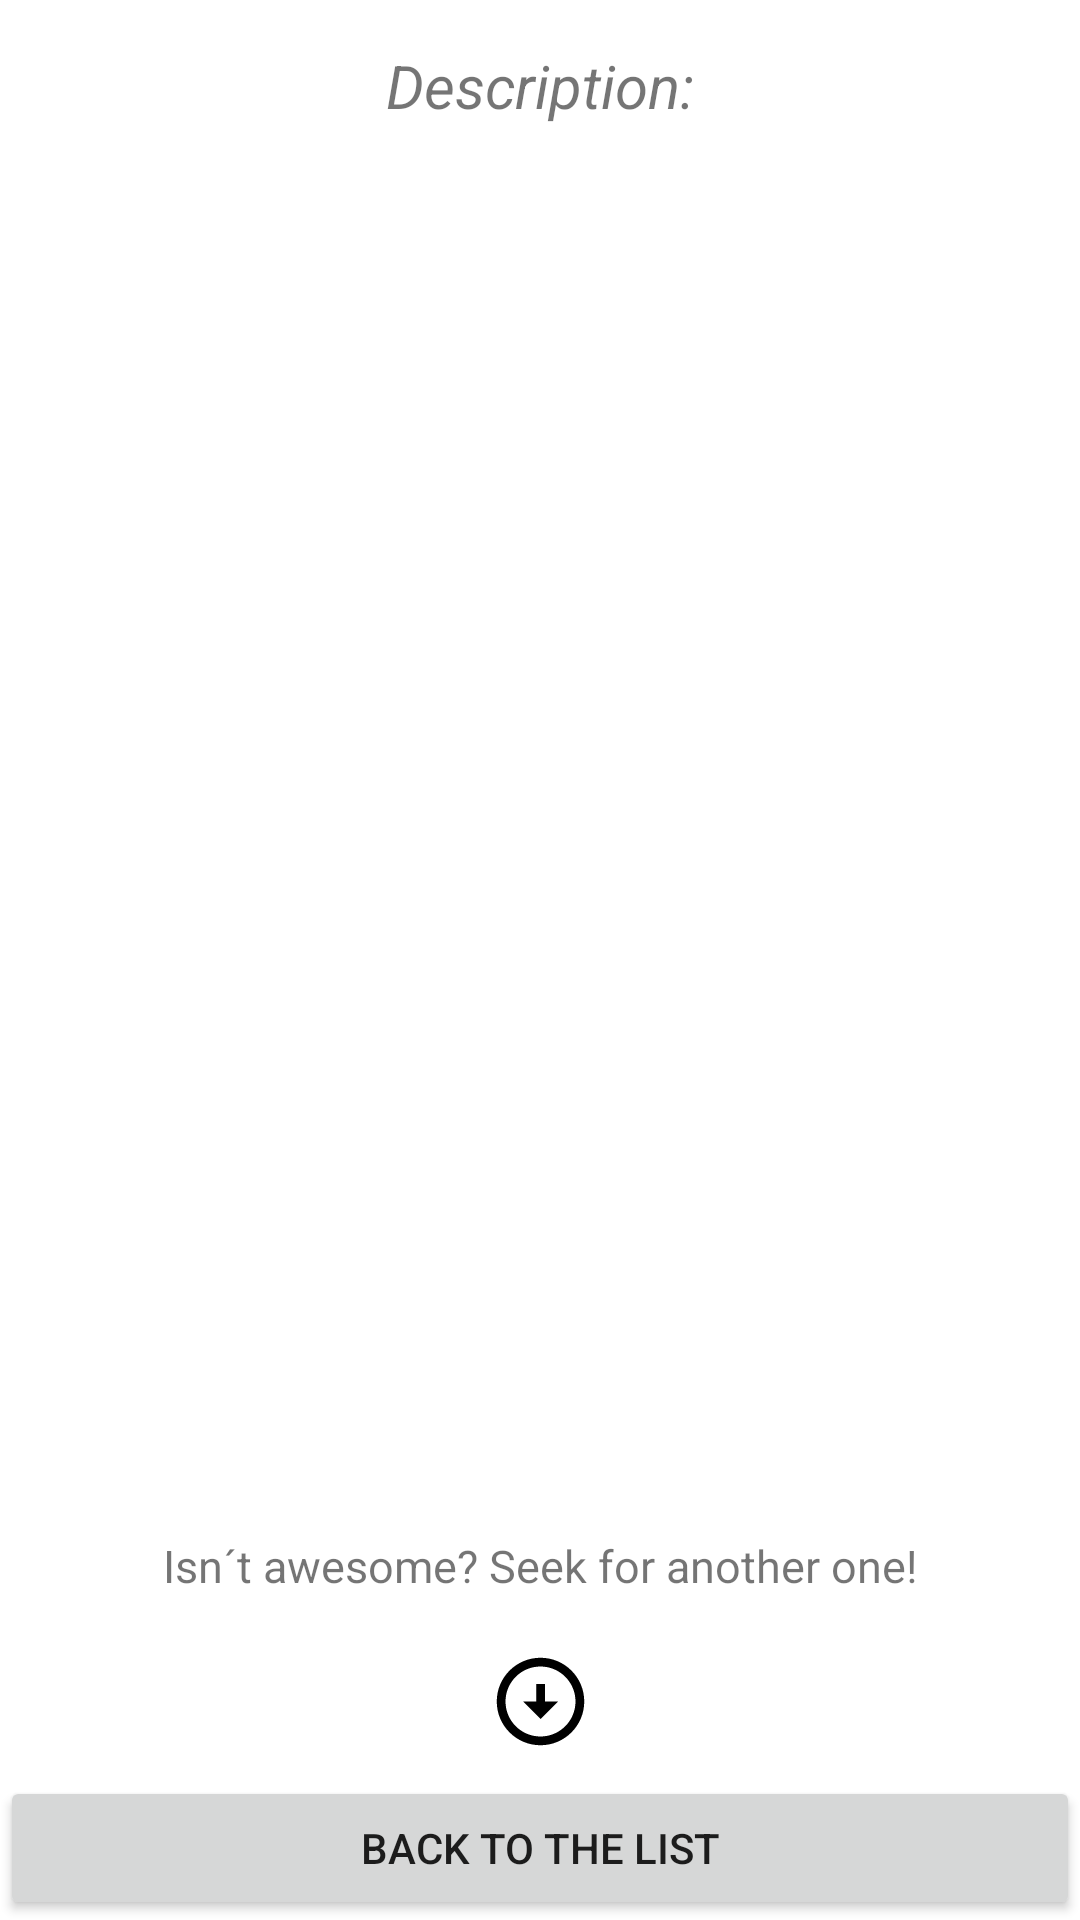

Icons on this 1080*1920 Android screen, each with the point to tap as point (x, y):
arrow circle down: point (540, 1701)
